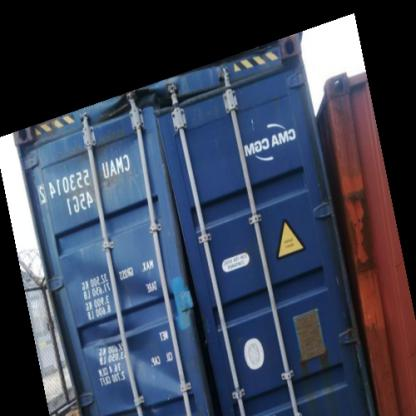Damage: (60, 267, 193, 394), (296, 342, 345, 399), (105, 82, 178, 118)
